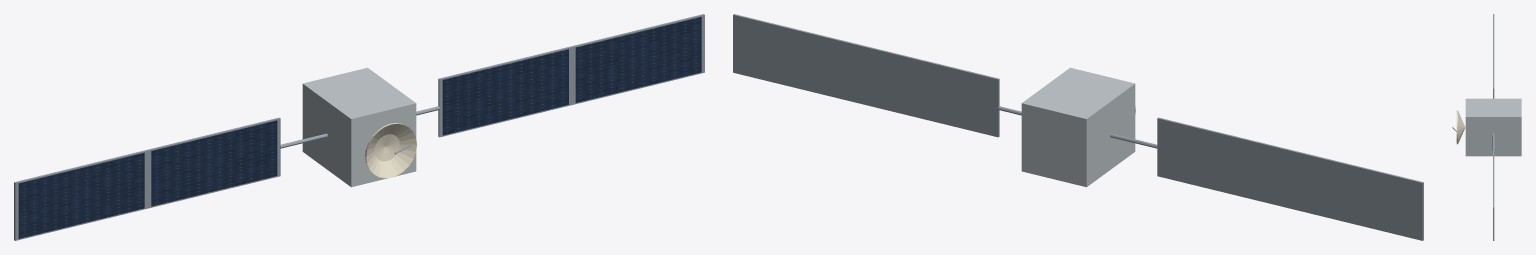
Rendered from ref-dfh-3-40283.glb.
3 views of the same model, side by side, from view 1: azimuth 30°, elevation 25°; view 2: azimuth 150°, elevation 25°; view 3: azimuth 270°, elevation 25° (orthographic). The views are drawn at different scales.
Parts seen in each view (by area): view 1: Photovoltaic laminates (×4), Spacecraft body, Array frame (×4), Reflector dish; view 2: Array frame (×4), Spacecraft body; view 3: Spacecraft body, Array frame (×4), Reflector dish.
Boxes of the visible parts, left/top/right/bottom form: Photovoltaic laminates (×4): left=18, top=17, right=701, bottom=238; Spacecraft body: left=302, top=67, right=416, bottom=187; Array frame (×4): left=14, top=14, right=704, bottom=240; Reflector dish: left=365, top=123, right=416, bottom=178; Array frame (×4): left=733, top=14, right=1423, bottom=240; Spacecraft body: left=1021, top=67, right=1135, bottom=187; Spacecraft body: left=1465, top=98, right=1521, bottom=156; Array frame (×4): left=1493, top=14, right=1494, bottom=240; Reflector dish: left=1456, top=110, right=1465, bottom=144.
Size of the model in its own units: 18 by 1.7 by 2.73.
Materials: 4 (1 with a texture image).
